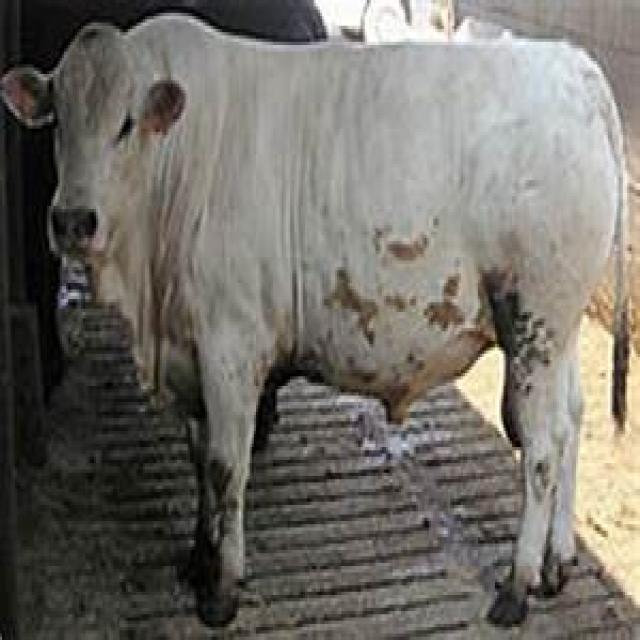animal: (1, 13, 626, 630)
